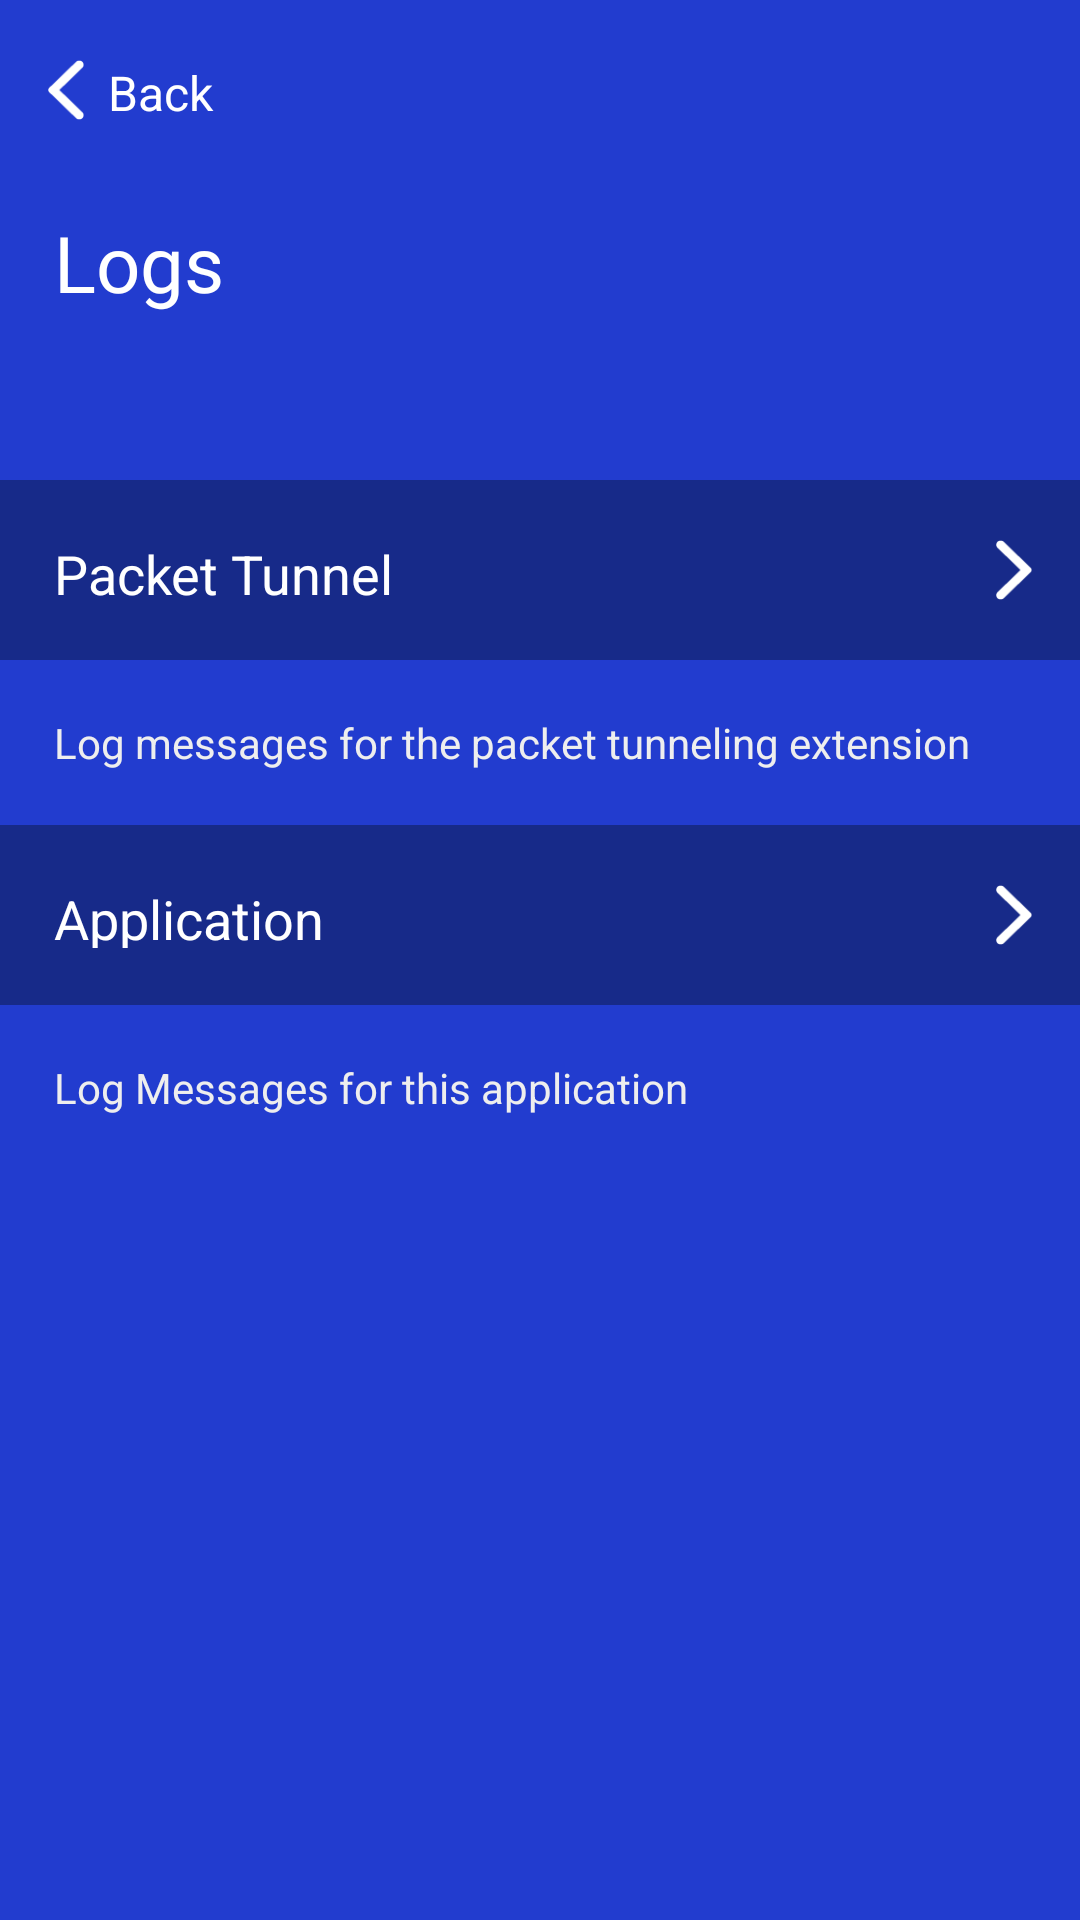

Icons on this 1080px×1920px Android screen, each with the point to tap as (x=x, y=y):
next: (x=1014, y=570), (x=1014, y=915)
